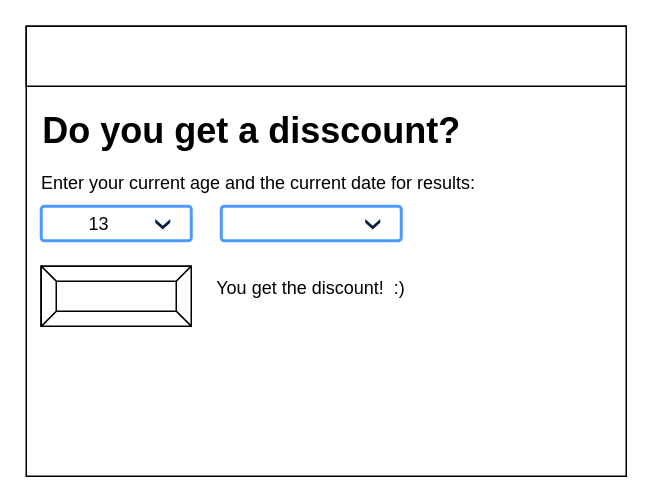
The diagram is 653 pixels wide and 503 high, and some of its shapes have lost their labels. Here are the shapes that lost their labels. From the top down, the centre of each, then its label:
At point (310, 223): "Thursday".
At point (115, 295): "Calculate".
